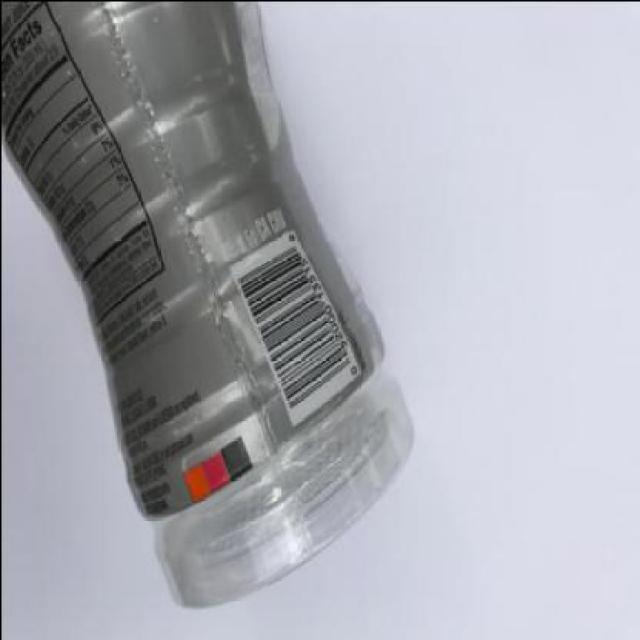PLASTIC: (2, 2, 416, 610), (1, 2, 384, 520)
